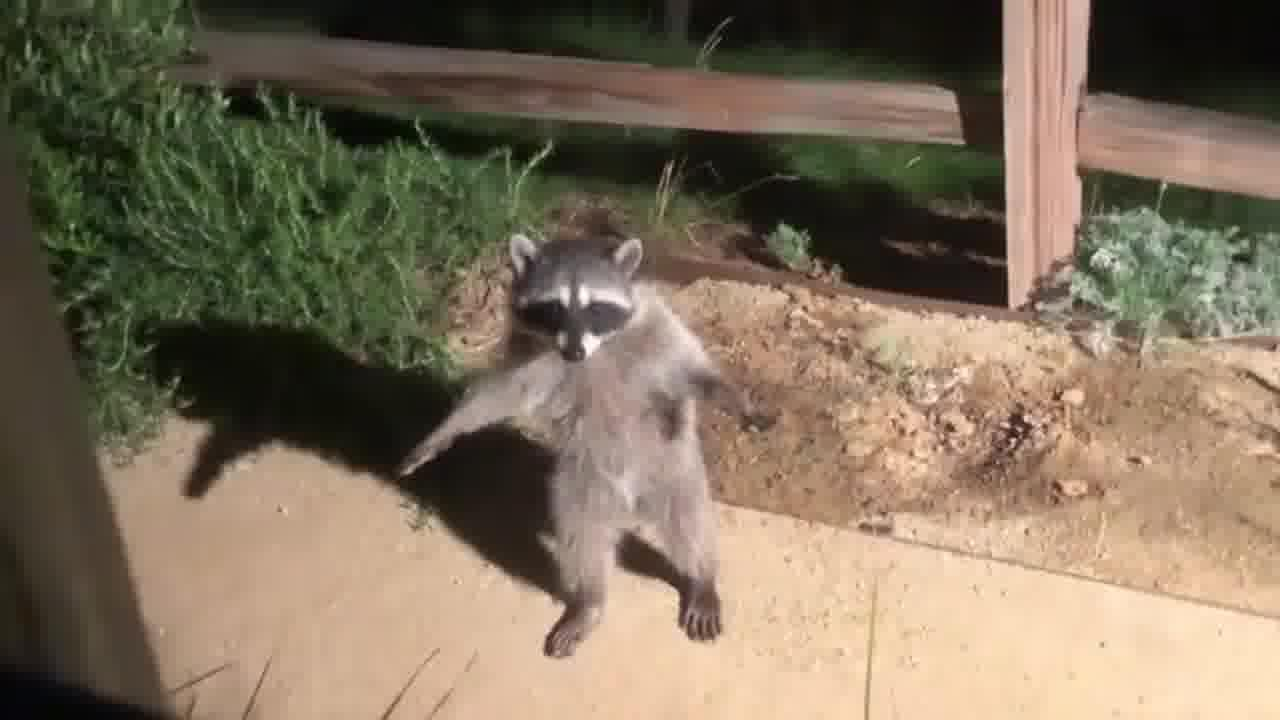raccoon: (397, 223, 787, 665)
